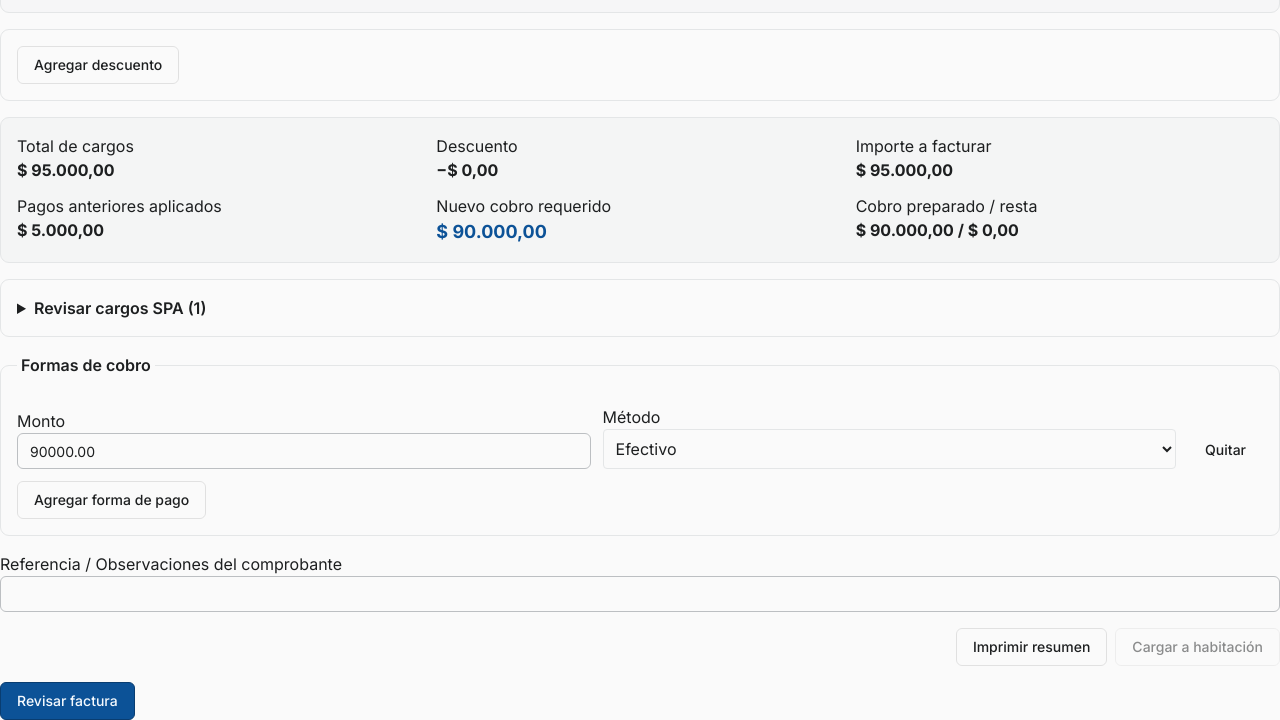
Test: rejects a mismatch in payment sums before preparing a document
(page scrolled)
Replace the text in the field named "Monto del cobro 1" with "1" at [304, 451], box [17,433,590,469]
(page scrolled)
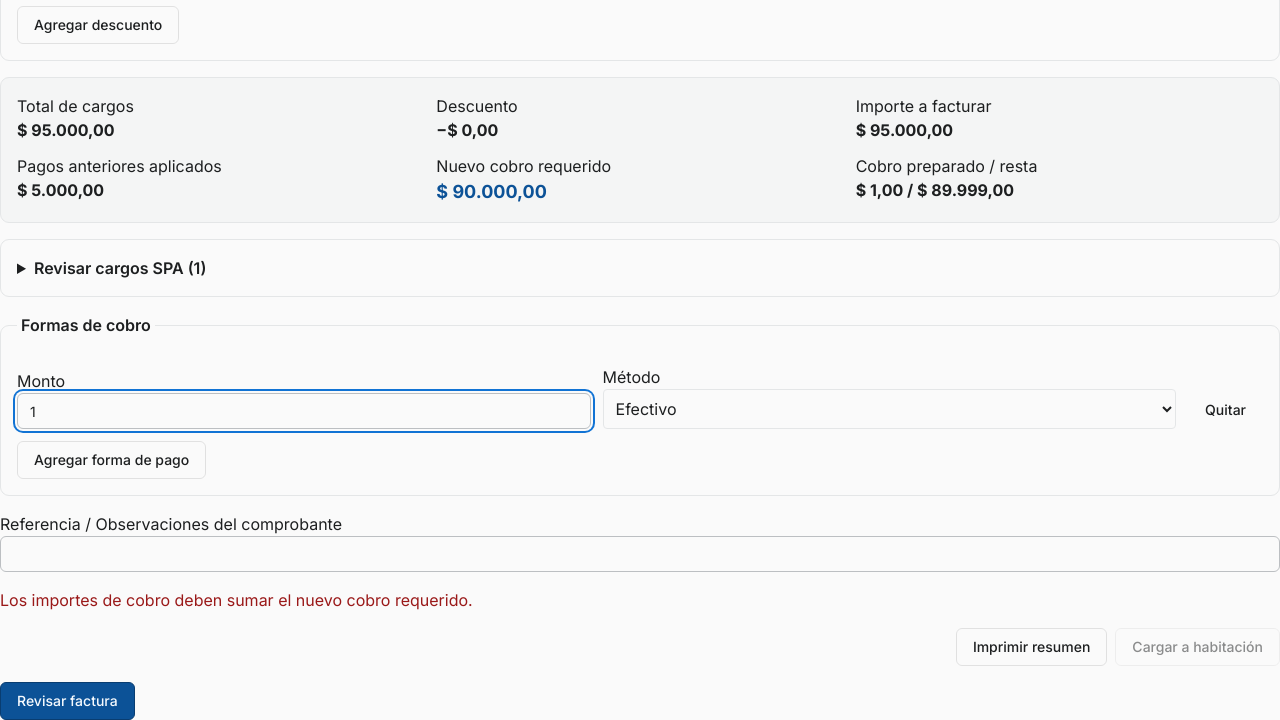
Click the button "Revisar factura" at [67, 701], box [0,682,135,719]
(page scrolled)
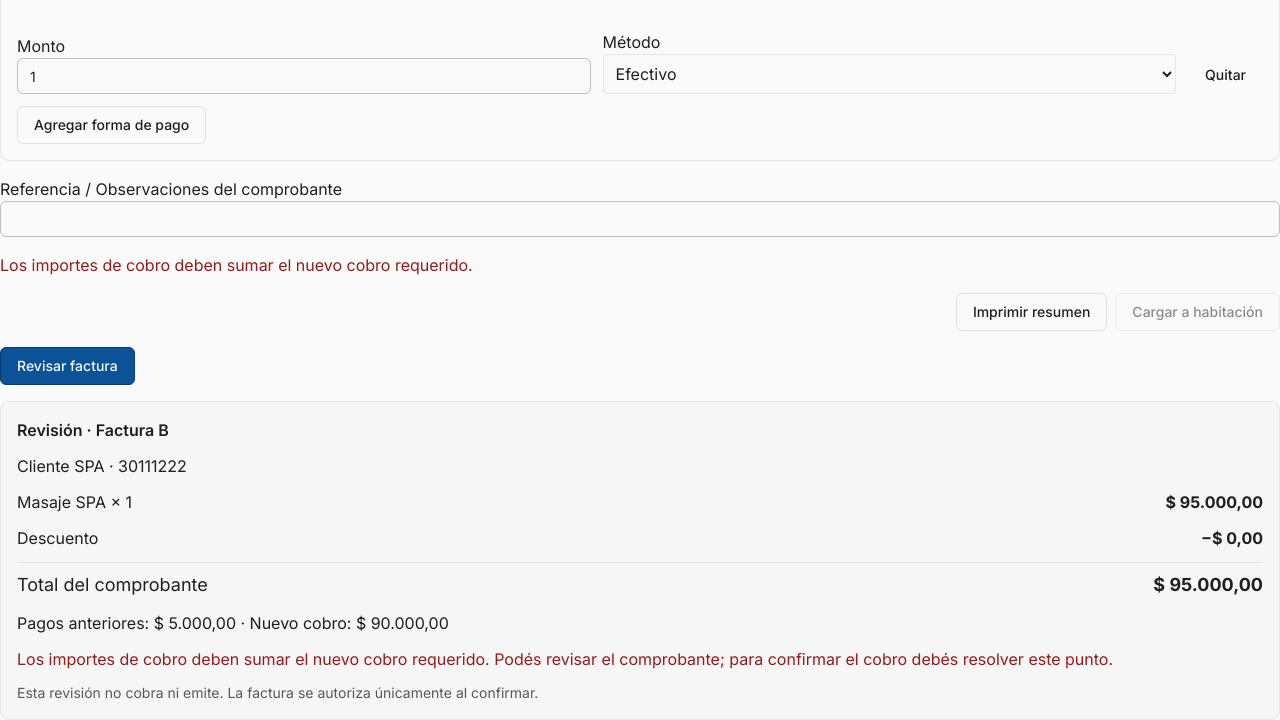
Expected: the element named "Revisión del comprobante SPA" is shown, [0,401,1279,719]
